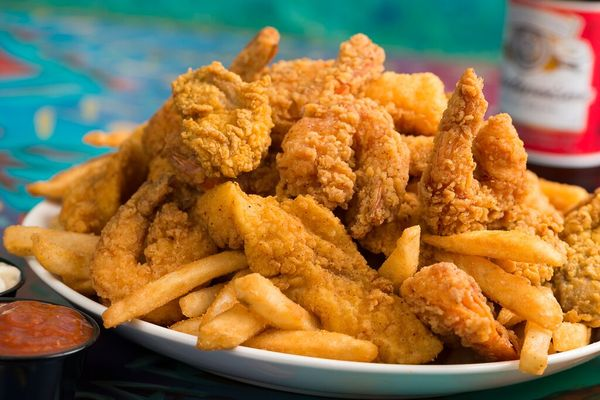pizza: (500, 1, 600, 165)
